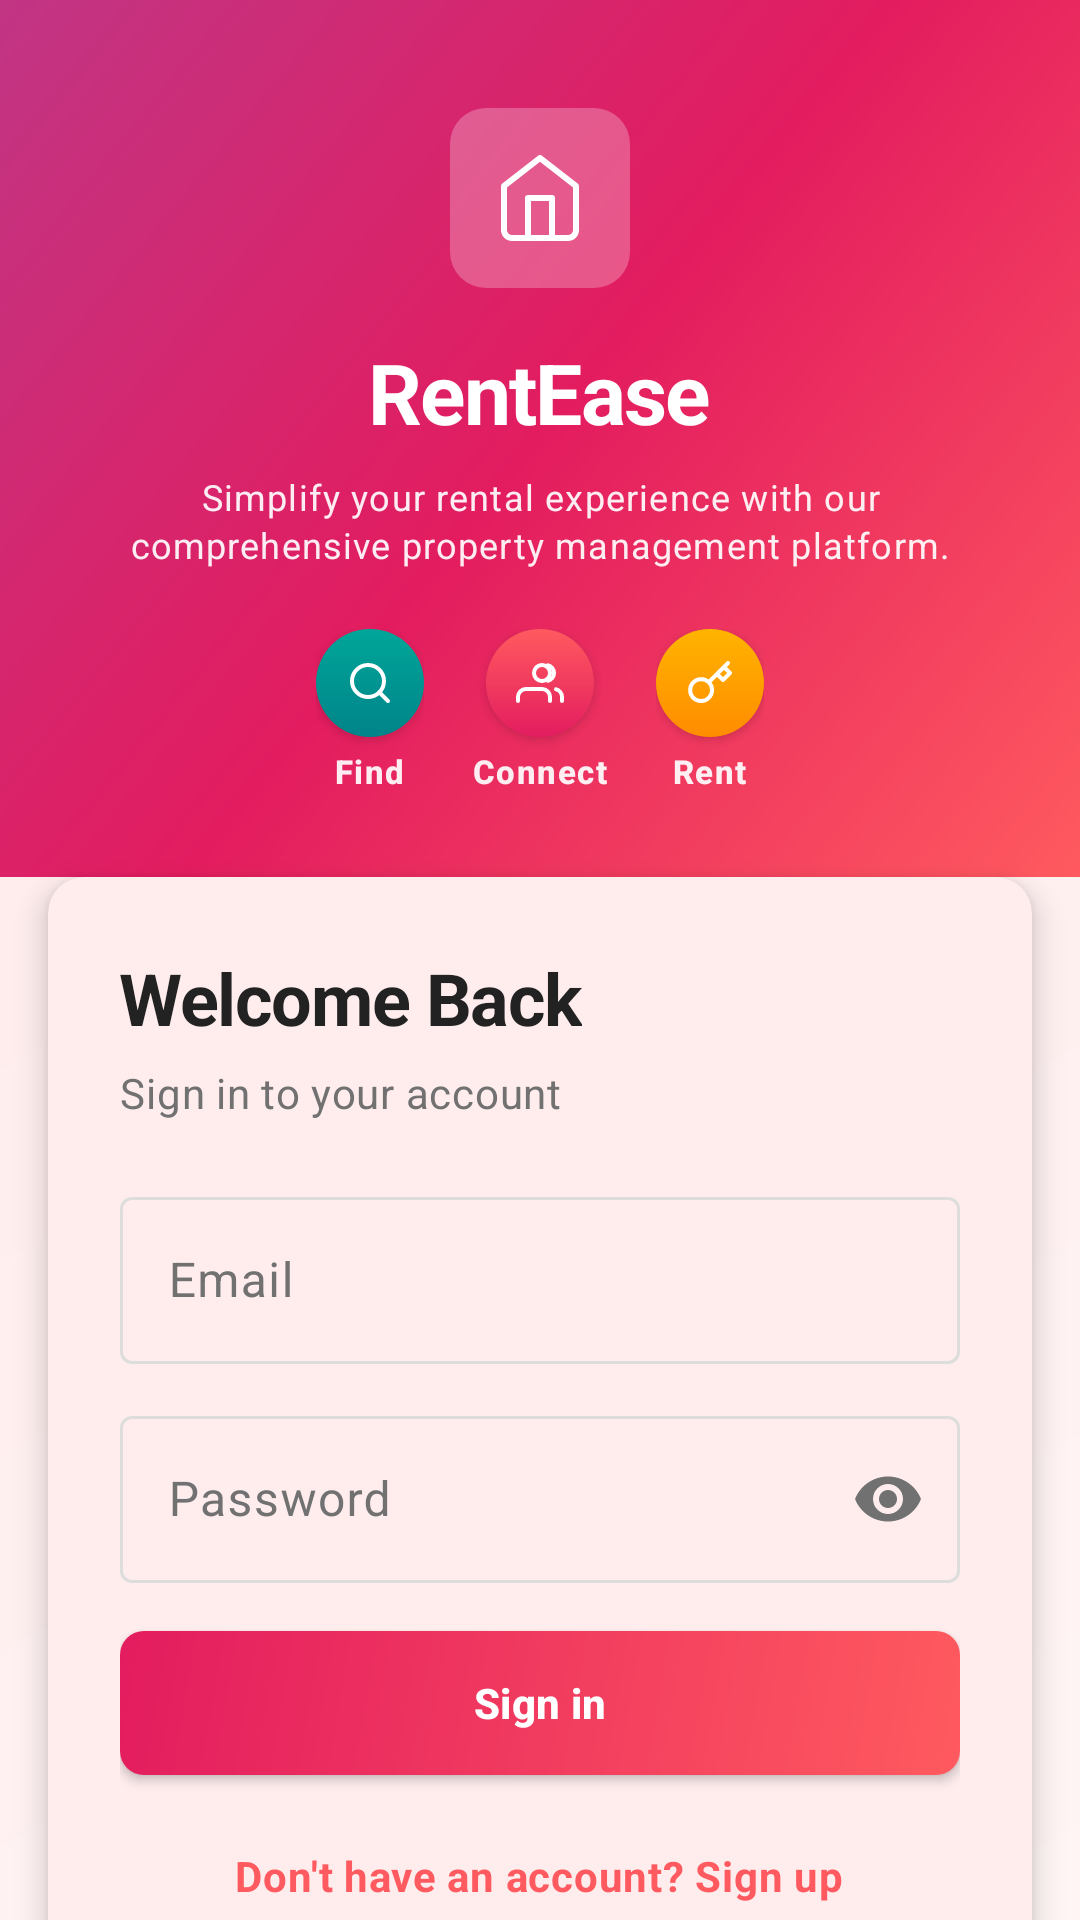

Named icons in this screenshot (1080px x 1920px) and their centers, (x=x, y=y):
brand house: (x=540, y=198)
